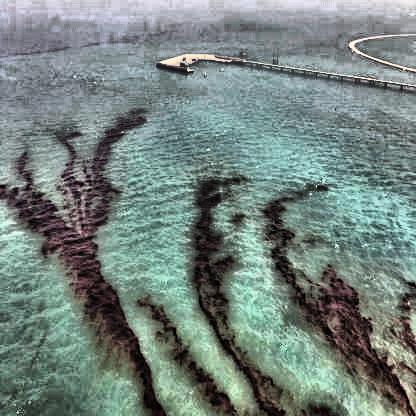truecolor: (0, 111, 166, 416), (266, 202, 416, 416), (194, 181, 285, 416)
